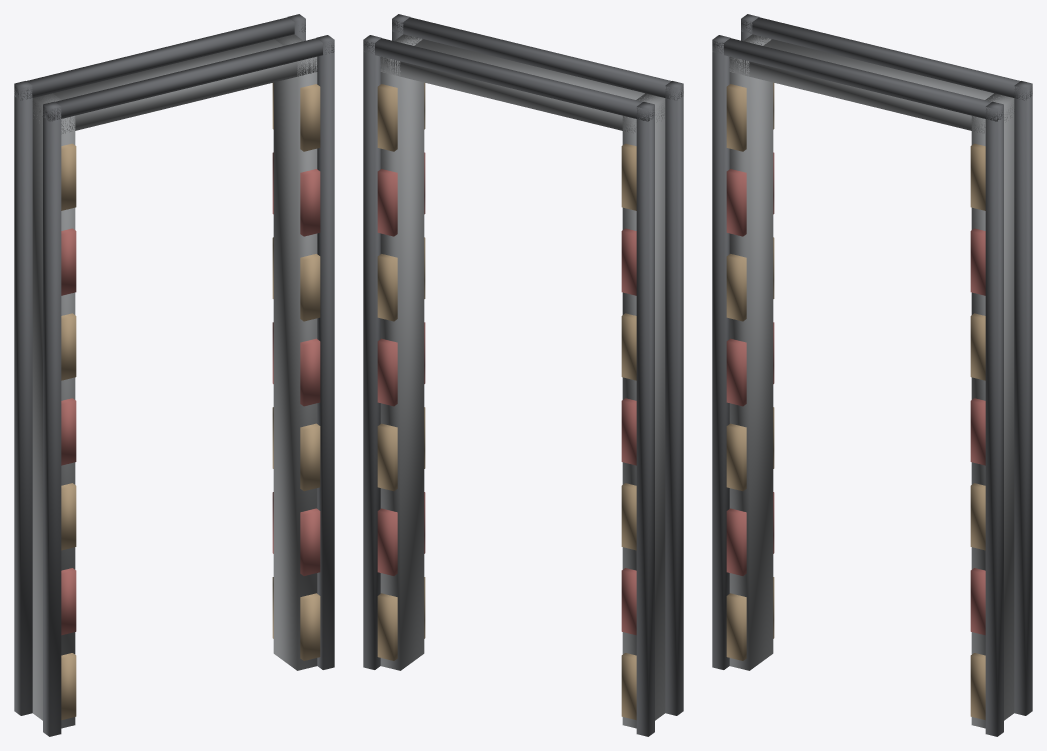
The model's file is doorway_brick_return_w86_h220_d16.glb.
3 views of the same model, side by side, from view 1: azimuth 30°, elevation 25°; view 2: azimuth 150°, elevation 25°; view 3: azimuth 330°, elevation 25° (orthographic).
Visible parts, largest first — view 1: world; view 2: world; view 3: world.
Part boxes in pixels (box(x1,y1,x2,y2)): world: box(14, 14, 334, 736); world: box(363, 14, 683, 736); world: box(712, 14, 1032, 736).
Size of the model in its own units: 1.1 by 2.32 by 0.2365.
